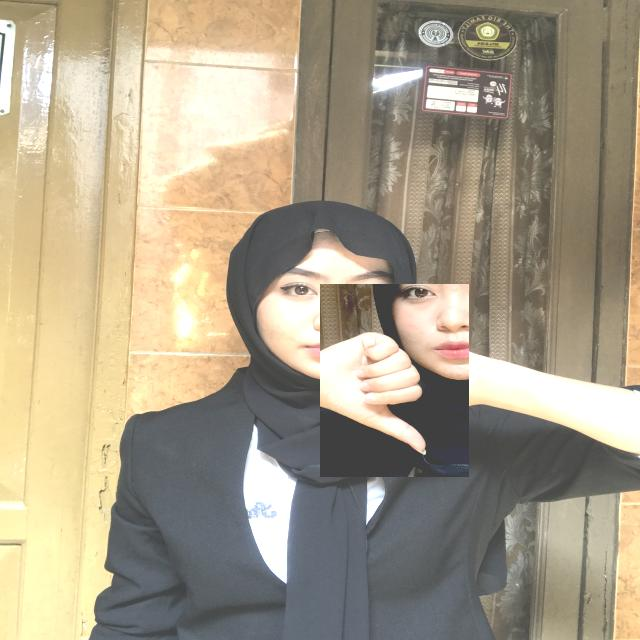sedih: (320, 284, 469, 477)
